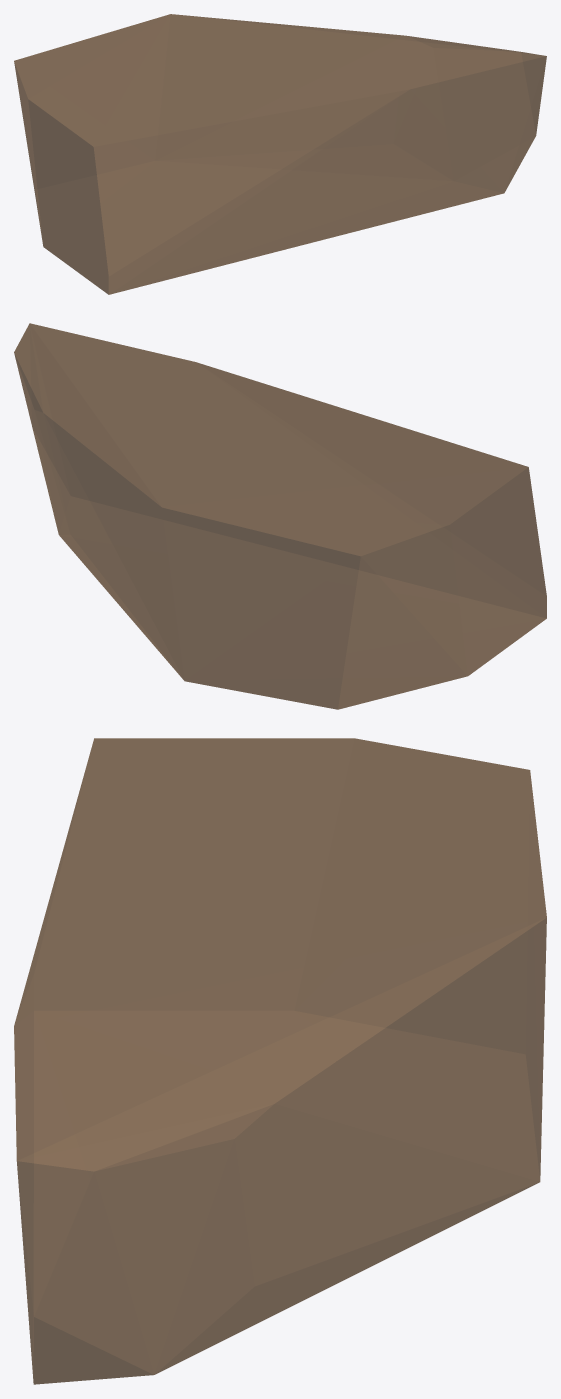
3 renders of one model, top to bottom at view 1: azimuth 30°, elevation 25°; view 2: azimuth 150°, elevation 25°; view 3: azimuth 270°, elevation 25°, orthographic. The views are drawn at different scales.
Parts seen in each view (by area): view 1: Shape_IndexedFaceSet.021_Shape_IndexedFaceSet.17999; view 2: Shape_IndexedFaceSet.021_Shape_IndexedFaceSet.17999; view 3: Shape_IndexedFaceSet.021_Shape_IndexedFaceSet.17999.
Boxes of the visible parts, <box> form: Shape_IndexedFaceSet.021_Shape_IndexedFaceSet.17999: <box>14,14,546,294</box>; Shape_IndexedFaceSet.021_Shape_IndexedFaceSet.17999: <box>14,323,546,709</box>; Shape_IndexedFaceSet.021_Shape_IndexedFaceSet.17999: <box>14,738,546,1384</box>.
Size of the model in its own units: 0.377 by 0.1174 by 0.2015.
